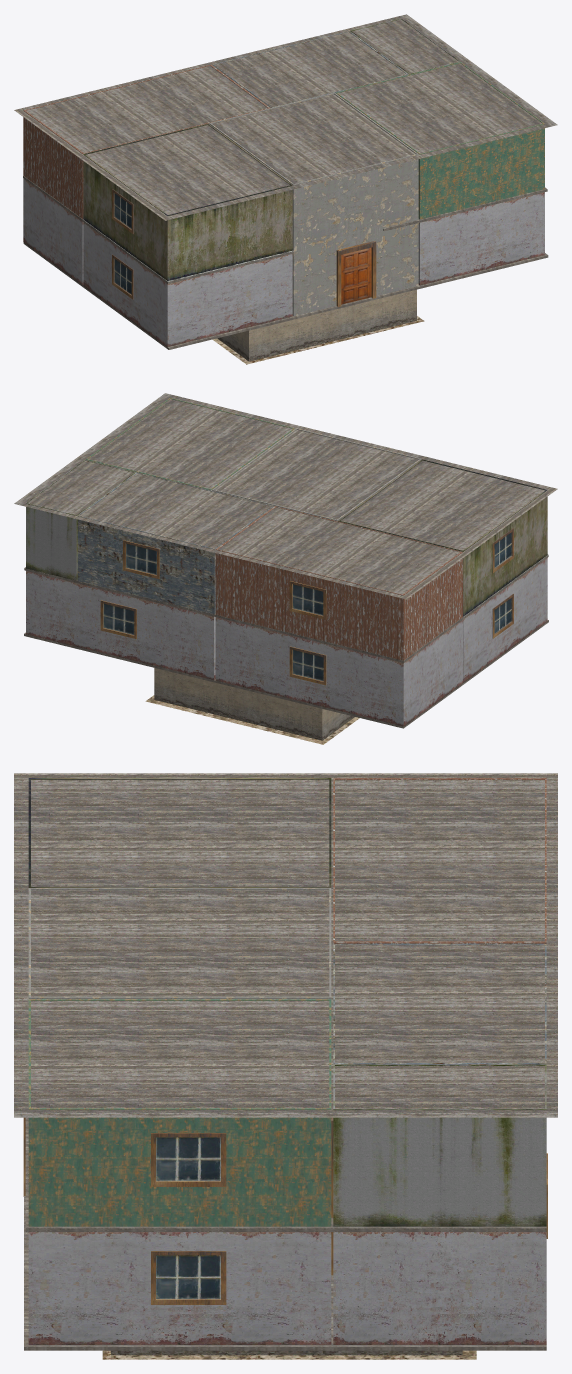
The model's file is GrannyHouse.fbx.
3 renders of one model, top to bottom at view 1: azimuth 30°, elevation 25°; view 2: azimuth 150°, elevation 25°; view 3: azimuth 270°, elevation 25°, orthographic. The views are drawn at different scales.
Visible parts, largest first — view 1: HouseWalls, HouseFloor, ExitDoor; view 2: HouseWalls, HouseFloor; view 3: HouseWalls, HouseFloor.
Boxes of the visible parts, x1,y1,x2,y2 form: HouseWalls: (14, 14, 557, 361); HouseFloor: (23, 176, 548, 364); ExitDoor: (341, 247, 371, 304); HouseWalls: (14, 393, 557, 740); HouseFloor: (24, 554, 548, 744); HouseWalls: (14, 773, 557, 1355); HouseFloor: (24, 1117, 546, 1359).
Size of the model in its own units: 42.28 by 19.44 by 28.21.
